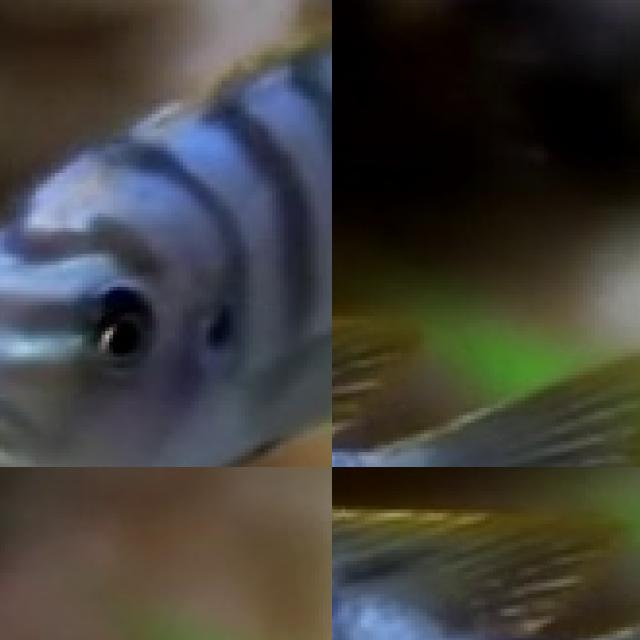fish: (0, 0, 332, 467), (332, 242, 640, 467)
